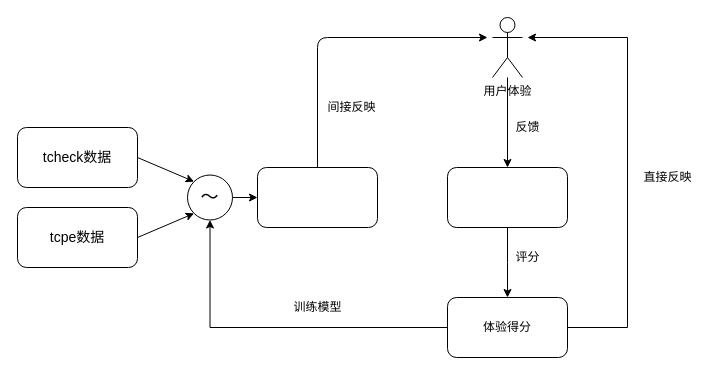
Some shapes in this 715 by 375 pixel diagram are drawn without their labels. The box of each missing label's shape, as (x1, y1, x2, y2) in pixels:
端上数据: (446, 166, 568, 228)
链路质量评分: (256, 166, 378, 228)
